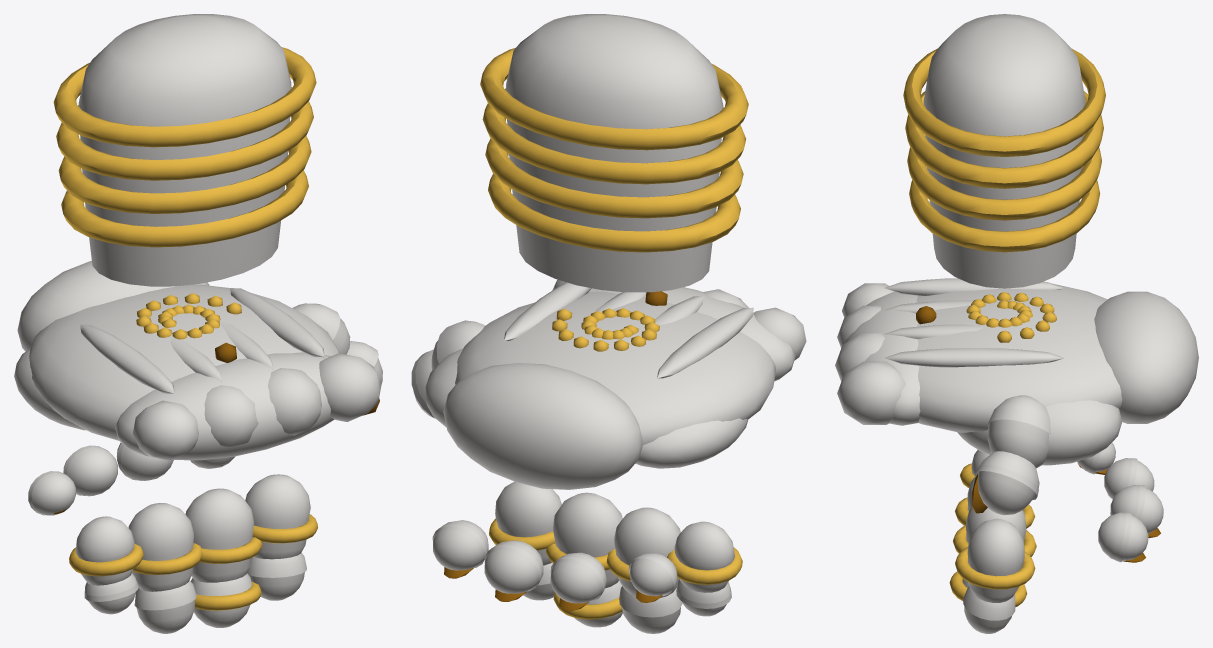
Rendered from MuseoDelOro_Mano.fbx.
3 views of the same model, side by side, from view 1: azimuth 30°, elevation 25°; view 2: azimuth 150°, elevation 25°; view 3: azimuth 270°, elevation 25° (orthographic). The views are drawn at different scales.
Visible parts, largest first — view 1: Antebrazo, Palma, Dedo_Medio_1, Dedo_Anular_1, Dedo_Indice_1, Dedo_Menique_1, Dedo_Medio_2, Dedo_Anular_2, Dedo_Anular_3, Dedo_Indice_2, Dedo_Menique_3, Dedo_Menique_2 (+3 smaller); view 2: Antebrazo, Palma, Dedo_Medio_1, Dedo_Menique_1, Dedo_Indice_1, Dedo_Anular_1, Dedo_Medio_3, Dedo_Anular_3, Dedo_Indice_3, Dedo_Anular_2, Dedo_Menique_3, Dedo_Medio_2 (+4 smaller); view 3: Palma, Antebrazo, Dedo_Indice_1, Pulgar_2, Pulgar_1, Dedo_Indice_3, Dedo_Medio_3, Dedo_Indice_2, Dedo_Medio_1, Dedo_Anular_3, Dedo_Menique_3, Dedo_Anular_1 (+1 smaller).
Part boxes in pixels (bbox=[...]): Antebrazo: bbox=[53, 14, 316, 286]; Palma: bbox=[14, 261, 381, 460]; Dedo_Medio_1: bbox=[185, 488, 262, 582]; Dedo_Anular_1: bbox=[128, 503, 202, 591]; Dedo_Indice_1: bbox=[245, 474, 317, 559]; Dedo_Menique_1: bbox=[69, 516, 143, 585]; Dedo_Medio_2: bbox=[191, 573, 261, 627]; Dedo_Anular_2: bbox=[134, 580, 196, 633]; Dedo_Anular_3: bbox=[63, 445, 118, 496]; Dedo_Indice_2: bbox=[247, 552, 306, 600]; Dedo_Menique_3: bbox=[28, 471, 75, 515]; Dedo_Menique_2: bbox=[84, 573, 138, 614]; Antebrazo: bbox=[480, 14, 748, 292]; Palma: bbox=[424, 279, 806, 489]; Dedo_Medio_1: bbox=[546, 492, 622, 588]; Dedo_Menique_1: bbox=[667, 521, 742, 592]; Dedo_Indice_1: bbox=[489, 481, 561, 565]; Dedo_Anular_1: bbox=[606, 507, 680, 597]; Dedo_Medio_3: bbox=[484, 540, 543, 601]; Dedo_Anular_3: bbox=[550, 552, 606, 610]; Dedo_Indice_3: bbox=[432, 520, 488, 578]; Dedo_Anular_2: bbox=[619, 586, 682, 633]; Dedo_Menique_3: bbox=[628, 553, 677, 602]; Dedo_Medio_2: bbox=[553, 580, 622, 627]; Palma: bbox=[835, 278, 1198, 465]; Antebrazo: bbox=[903, 14, 1105, 288]; Dedo_Indice_1: bbox=[955, 518, 1035, 602]; Pulgar_2: bbox=[971, 451, 1039, 515]; Pulgar_1: bbox=[986, 395, 1050, 468]; Dedo_Indice_3: bbox=[1098, 512, 1148, 562]; Dedo_Medio_3: bbox=[1110, 485, 1163, 538]; Dedo_Indice_2: bbox=[963, 586, 1015, 633]; Dedo_Medio_1: bbox=[953, 506, 1036, 556]; Dedo_Anular_3: bbox=[1104, 458, 1154, 499]; Dedo_Menique_3: bbox=[1077, 442, 1115, 474]; Dedo_Anular_1: bbox=[955, 476, 1035, 528].
Bounding box in the file's own units: 0.6049 × 1.05 × 0.6031.
